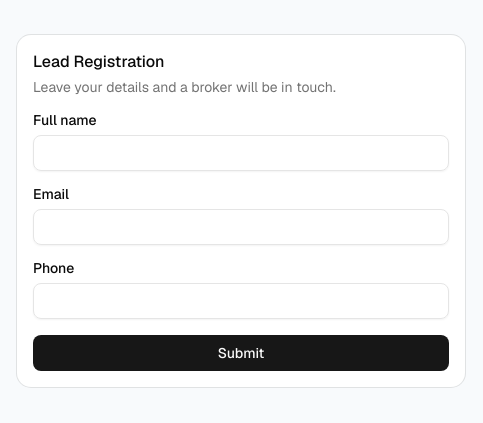
Test: PublicFormPage › surfaces a server error without losing the form
Expected: the text "Lead Registration" is shown, 33,51 -> 164,72
Type "Jane Doe" into the field labelled "Full name" at (241, 153), box 33,135 -> 449,171
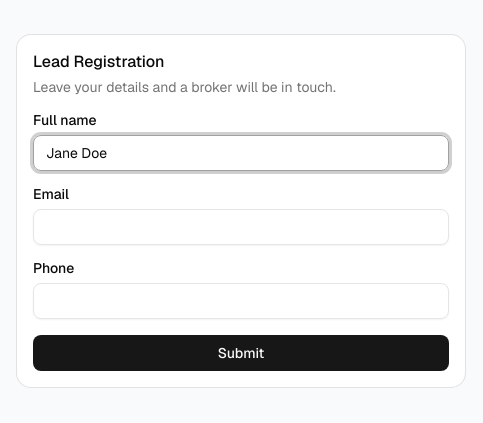
Type "jane@example.com" into the field labelled "Email" at (241, 227), box 33,209 -> 449,245
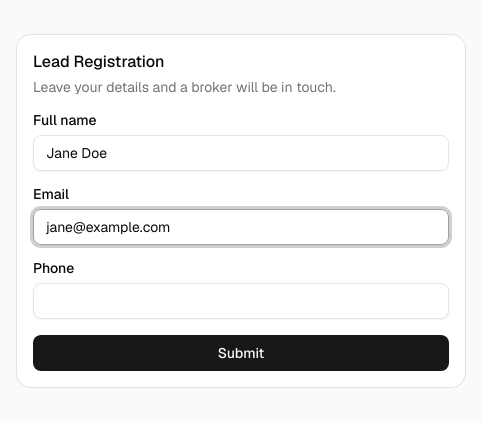
Type "09171234567" into the field labelled "Phone" at (241, 301), box 33,283 -> 449,319
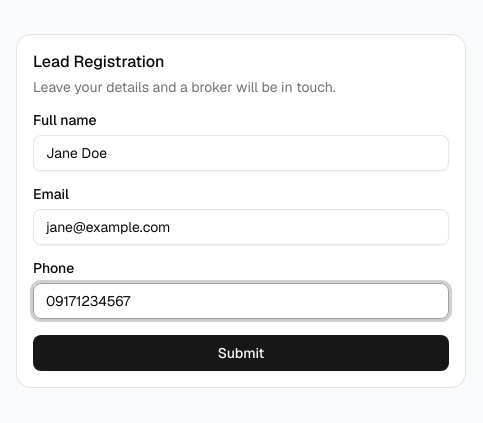
Click the button "Submit" at (241, 353), box 33,335 -> 449,371
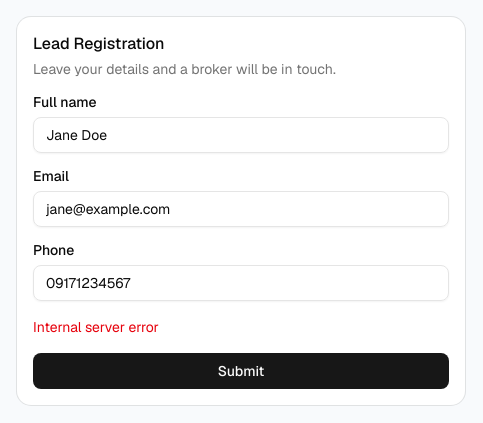
Expected: the button "Submit" is enabled, 33,353 -> 449,389
Result: the message reads "Internal server error" at 33,318 -> 159,336
